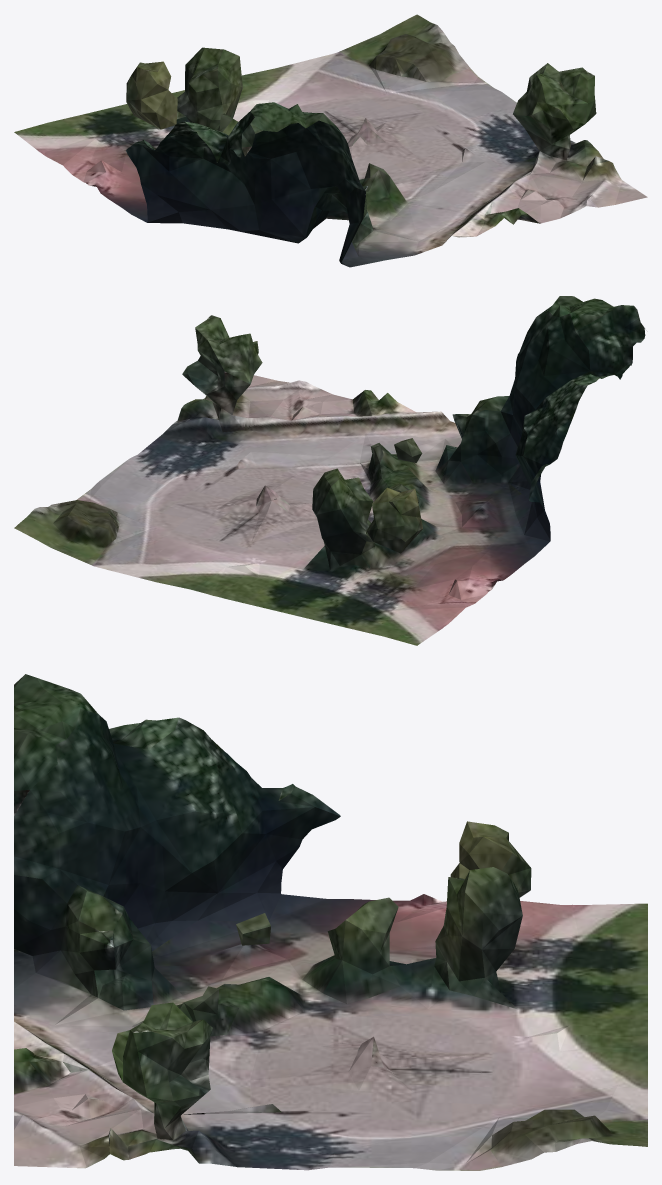
File: helsinki-6-0.glb
3 views of the same model, one above another, from view 1: azimuth 30°, elevation 25°; view 2: azimuth 150°, elevation 25°; view 3: azimuth 270°, elevation 25° (orthographic). The views are drawn at different scales.
Bounding box in the file's own units: 31.75 × 13.14 × 31.5.
Materials: 1 (1 with a texture image).
